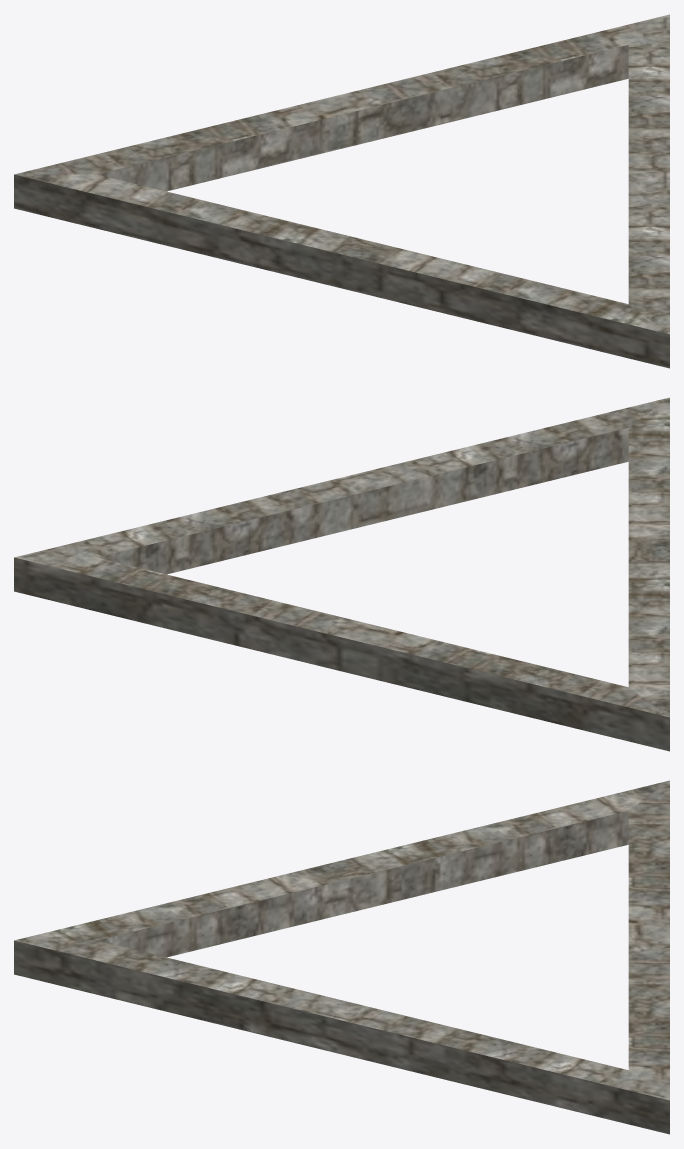
File: stone_floor_frame_triangle_textured.glb
3 views of the same model, one above another, from view 1: azimuth 30°, elevation 25°; view 2: azimuth 150°, elevation 25°; view 3: azimuth 270°, elevation 25° (orthographic).
Visible parts, largest first — view 1: Circle.001; view 2: Circle.001; view 3: Circle.001.
Part boxes in pixels (left/top/right/bottom): Circle.001: left=14, top=14, right=669, bottom=368; Circle.001: left=14, top=397, right=669, bottom=751; Circle.001: left=14, top=780, right=669, bottom=1134.
Bounding box in the file's own units: 1.96 × 0.0969 × 1.69.
1 material, 1 textured.
